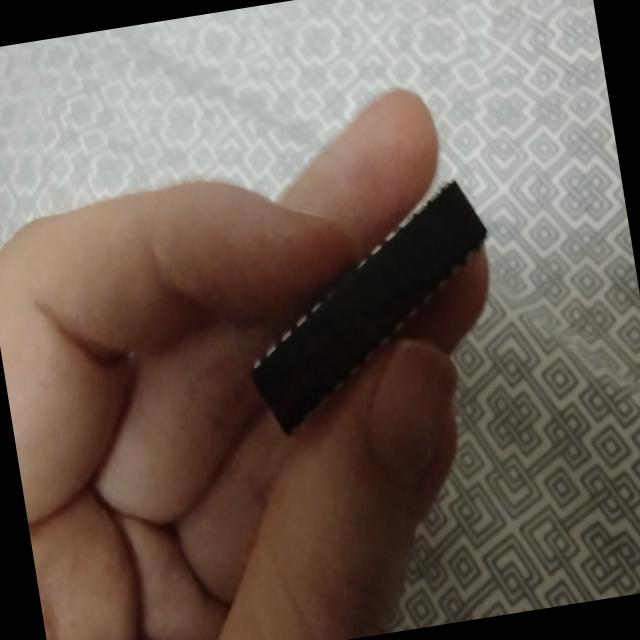atmega: (222, 170, 516, 444)
